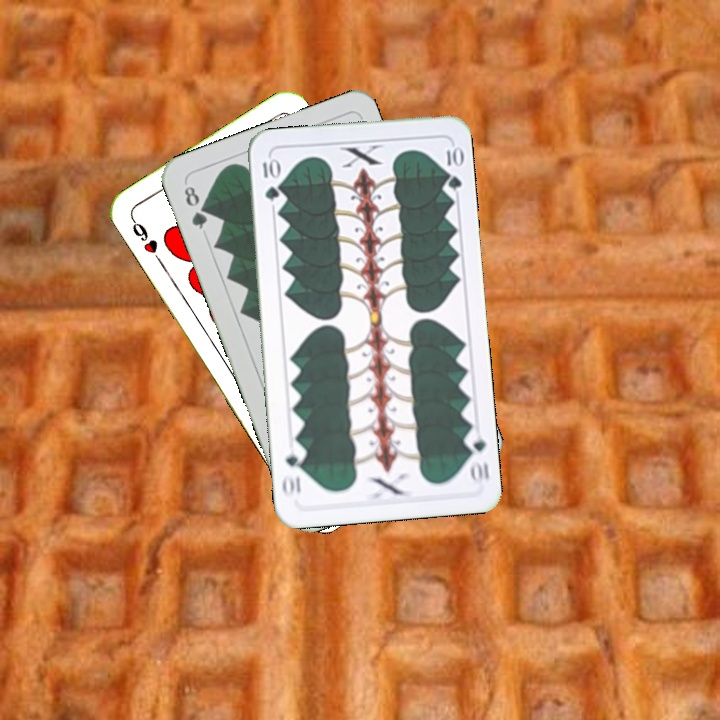G10: (461, 427, 492, 487), (258, 154, 281, 203)
G8: (180, 182, 210, 232)
H9: (127, 213, 165, 266)
